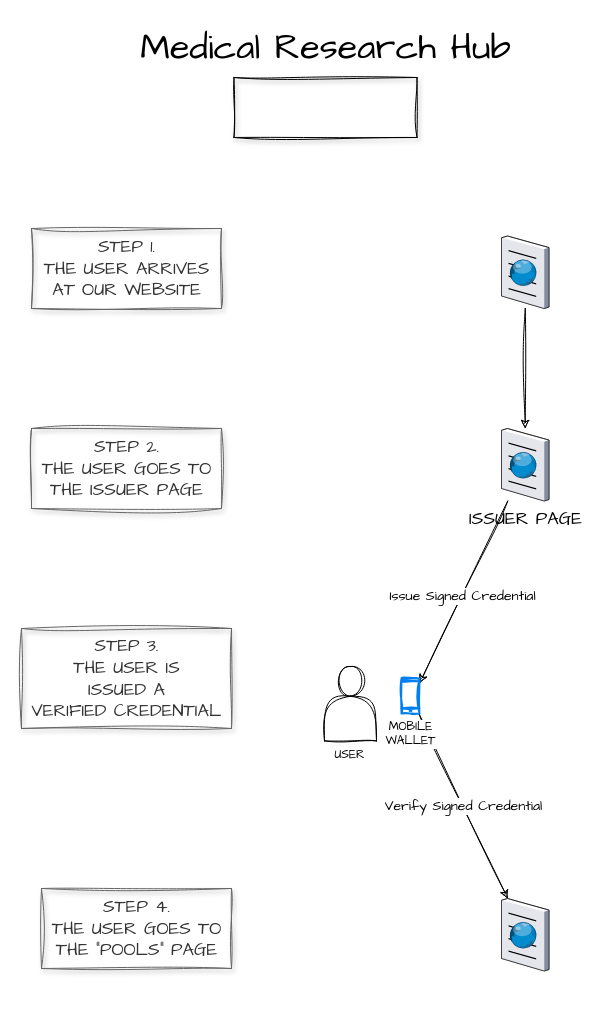
The diagram is 603 pixels wide and 1017 high, and some of its shapes have lost their labels. Each missing label, with the centre of its shape:
"POOLS" PAGE: [524,934]
User Flow: [326,108]
WEBSITE: [524,272]
